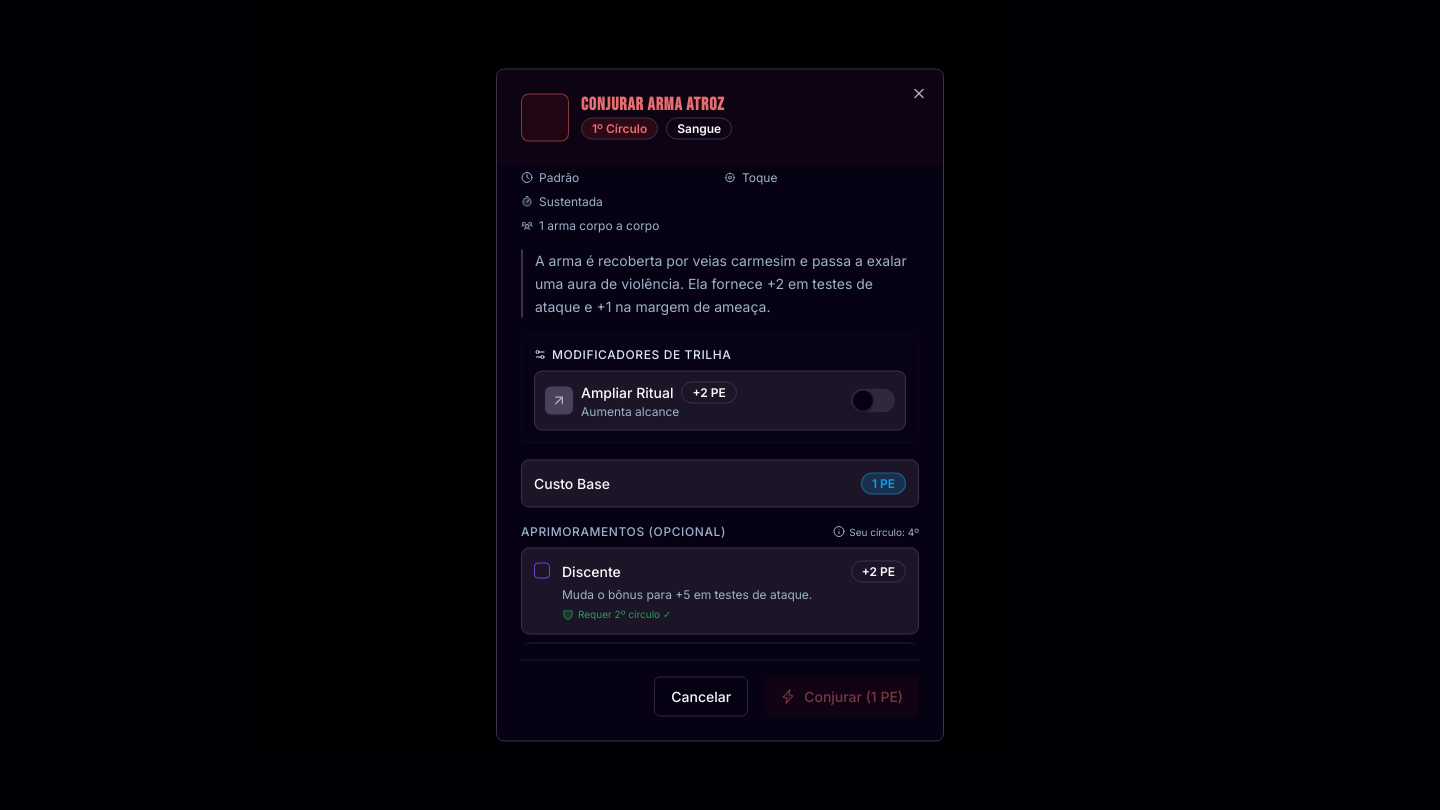
Test: Modal de conjuração desktop › inclui o custo do modificador na validação do saldo
(page scrolled)
Click the switch at coordinates (873, 401), box x1=851 y1=389 x2=895 y2=413
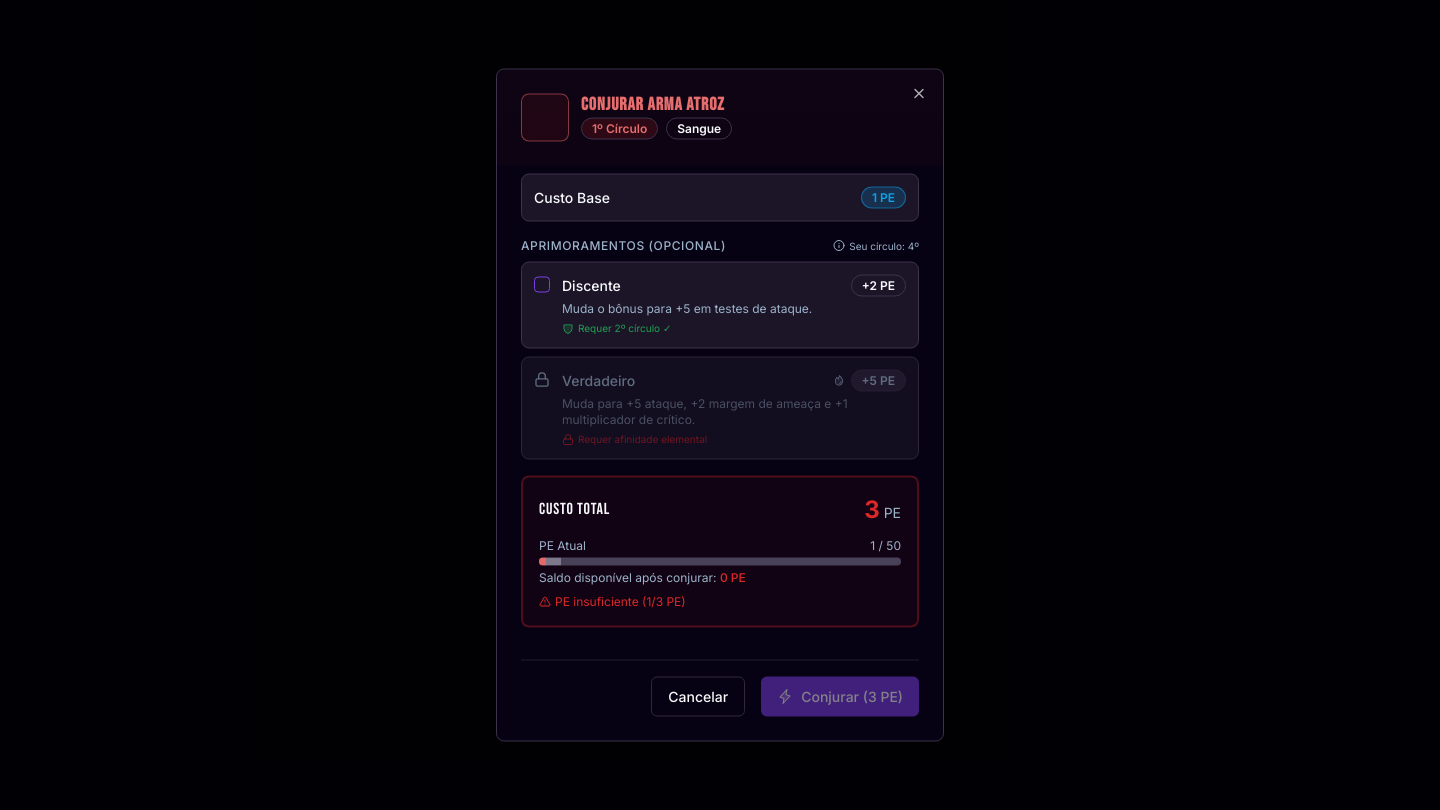
Expected: the button "Conjurar (3 PE)" is disabled, x1=761 y1=676 x2=919 y2=716
Now the text "PE insuficiente (1/3 PE)" is shown, box x1=539 y1=594 x2=686 y2=609
